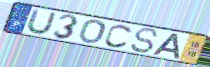3: (52, 14, 80, 41)
A: (151, 33, 181, 60)
C: (103, 23, 134, 49)
O: (77, 19, 107, 45)
S: (129, 26, 160, 54)
U: (24, 7, 58, 36)
